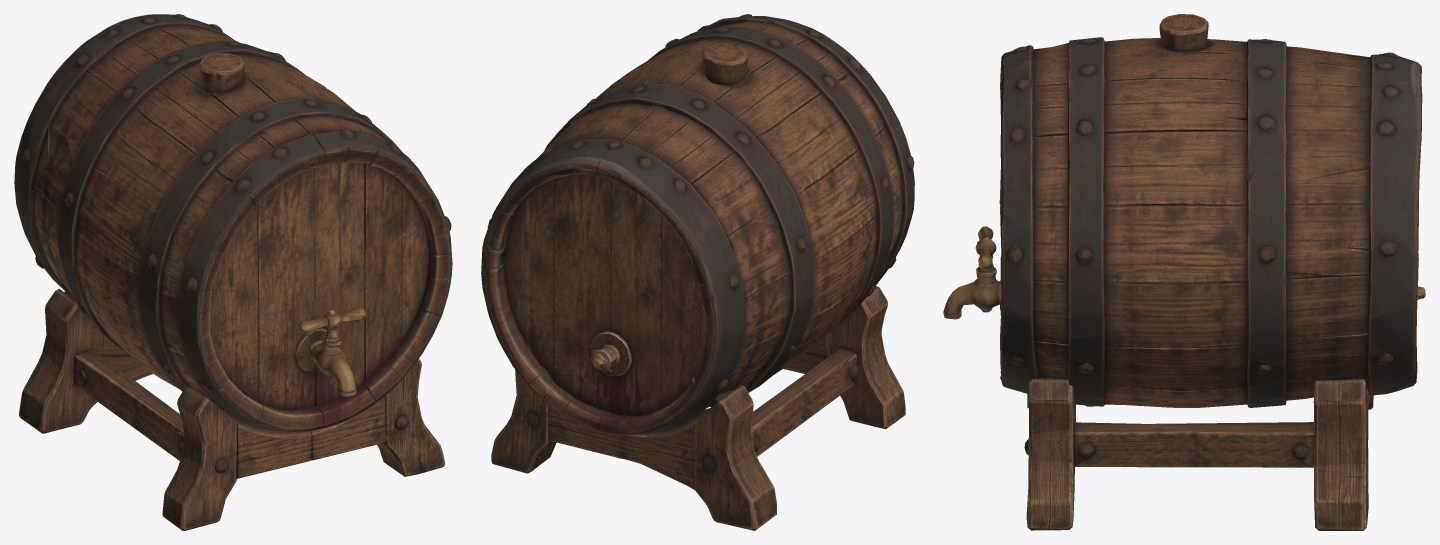
Rendered from wine-barrel-on-cradle.glb.
3 views of the same model, side by side, from view 1: azimuth 30°, elevation 25°; view 2: azimuth 150°, elevation 25°; view 3: azimuth 270°, elevation 25° (orthographic). The views are drawn at different scales.
Size of the model in its own units: 1.4 by 1.87 by 1.9.
Materials: 1 (1 with a texture image).
